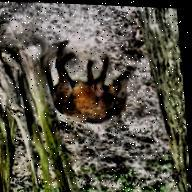boar: (47, 47, 153, 131)
